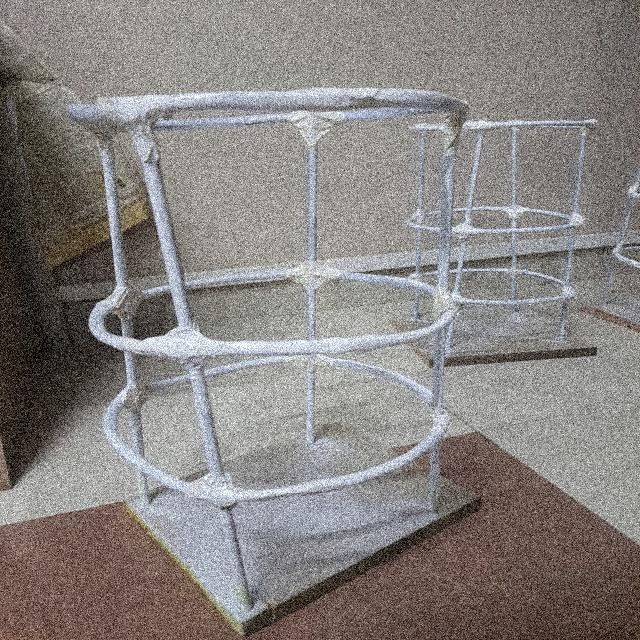silo: (70, 90, 478, 582), (409, 111, 609, 367)
